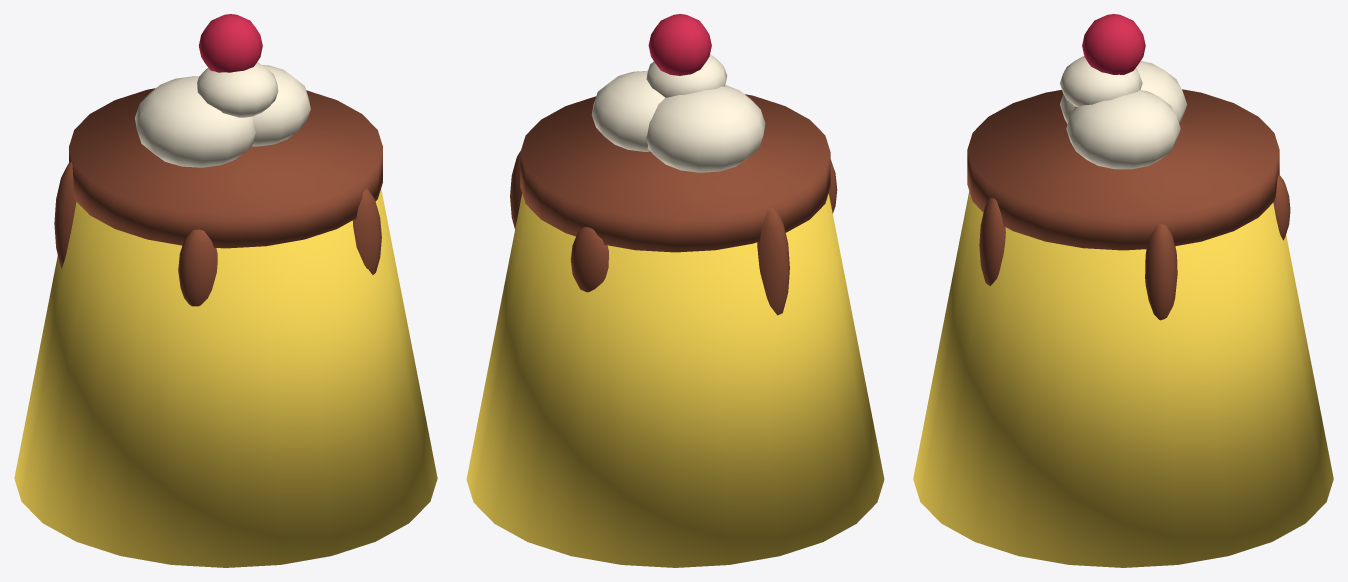
The model's file is pudding.glb.
3 views of the same model, side by side, from view 1: azimuth 30°, elevation 25°; view 2: azimuth 150°, elevation 25°; view 3: azimuth 270°, elevation 25° (orthographic).
Parts seen in each view (by area): view 1: pudding; view 2: pudding; view 3: pudding.
Boxes of the visible parts, x1,y1,x2,y2 form: pudding: (14, 14, 437, 567); pudding: (466, 14, 884, 567); pudding: (913, 14, 1333, 567).
Bounding box in the file's own units: 0.825 × 1 × 0.825.
